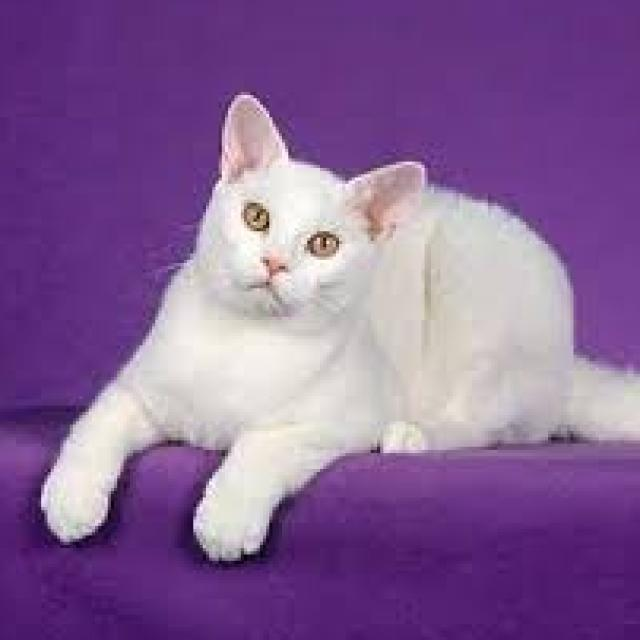Khao Manee: (31, 85, 640, 570)
